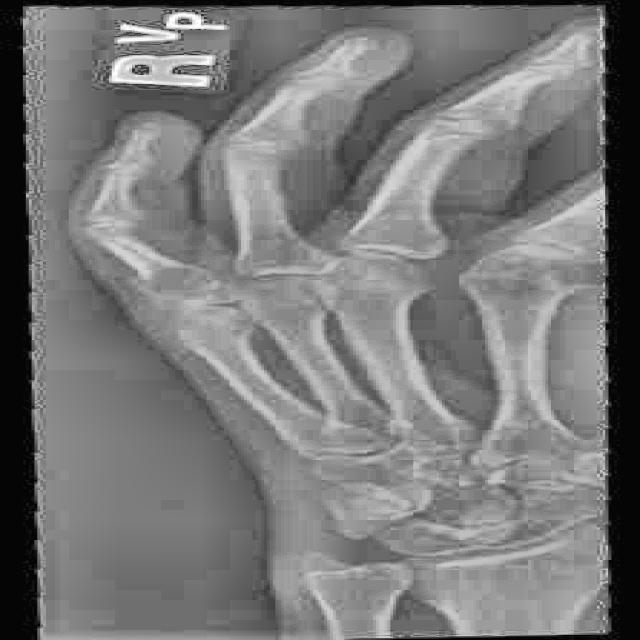fingers positive: (217, 134, 318, 166)
